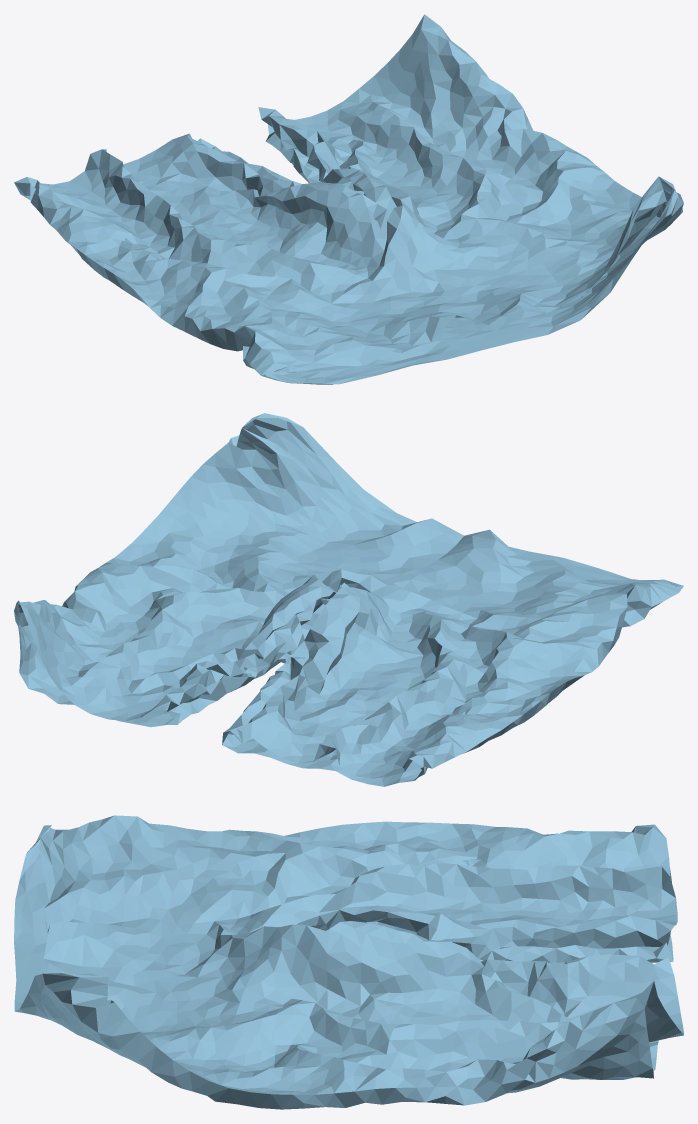
The model's file is frame_03.glb.
3 renders of one model, top to bottom at view 1: azimuth 30°, elevation 25°; view 2: azimuth 150°, elevation 25°; view 3: azimuth 270°, elevation 25°, orthographic. The views are drawn at different scales.
Parts seen in each view (by area): view 1: frame_03.obj; view 2: frame_03.obj; view 3: frame_03.obj.
Part boxes in pixels (left/top/right/bottom): frame_03.obj: left=14, top=14, right=683, bottom=384; frame_03.obj: left=14, top=413, right=683, bottom=786; frame_03.obj: left=14, top=815, right=683, bottom=1109.
Bounding box in the file's own units: 1.45 × 0.3058 × 1.5.
